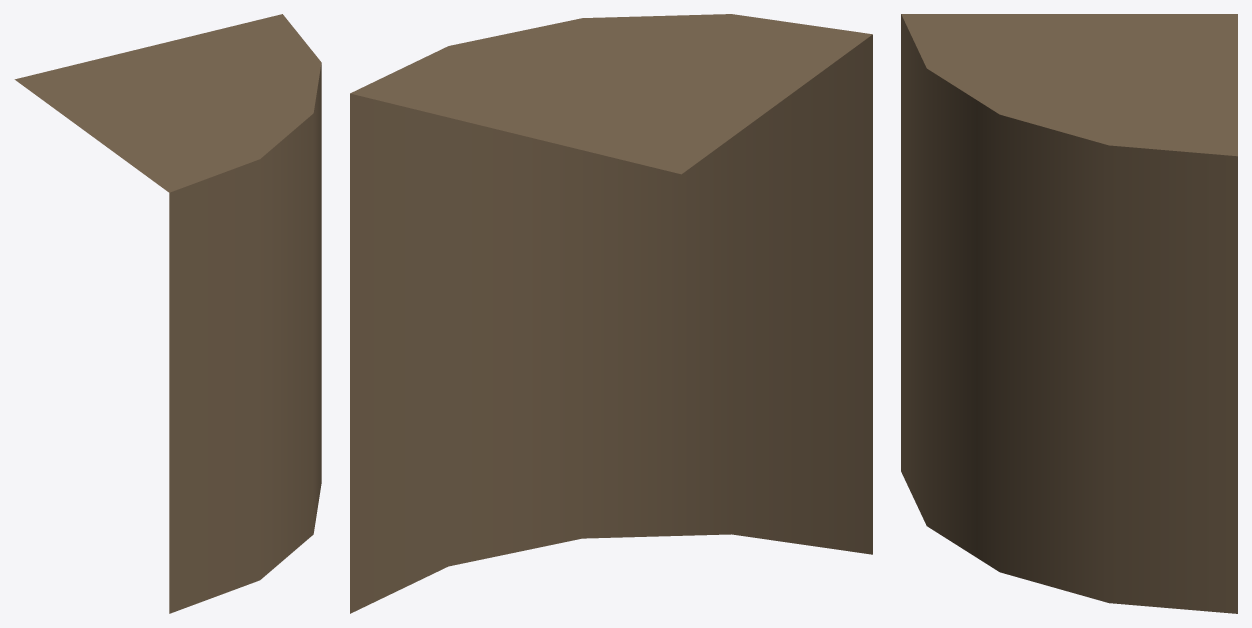
The model's file is 2x2_foundation_trim_corner.FBX.
3 renders of one model, left to right at view 1: azimuth 30°, elevation 25°; view 2: azimuth 150°, elevation 25°; view 3: azimuth 270°, elevation 25°, orthographic. The views are drawn at different scales.
Visible parts, largest first — view 1: 2x2_foundation_trim_corner; view 2: 2x2_foundation_trim_corner; view 3: 2x2_foundation_trim_corner.
Boxes of the visible parts, x1,y1,x2,y2 form: 2x2_foundation_trim_corner: [14, 14, 321, 613]; 2x2_foundation_trim_corner: [350, 14, 872, 613]; 2x2_foundation_trim_corner: [901, 14, 1237, 613].
Bounding box in the file's own units: 20 × 30 × 20.
